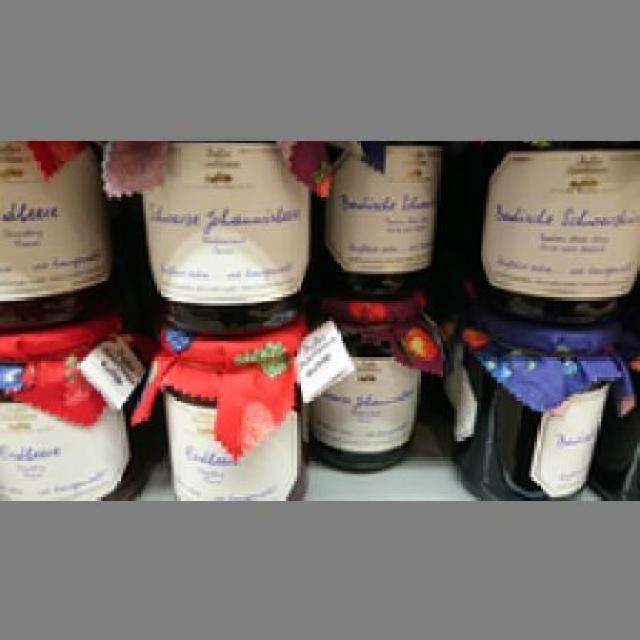Jam: (132, 136, 314, 330), (443, 314, 620, 500), (146, 314, 312, 497), (466, 137, 634, 317), (0, 310, 155, 498), (0, 136, 132, 335), (303, 288, 440, 472), (314, 136, 443, 290)
